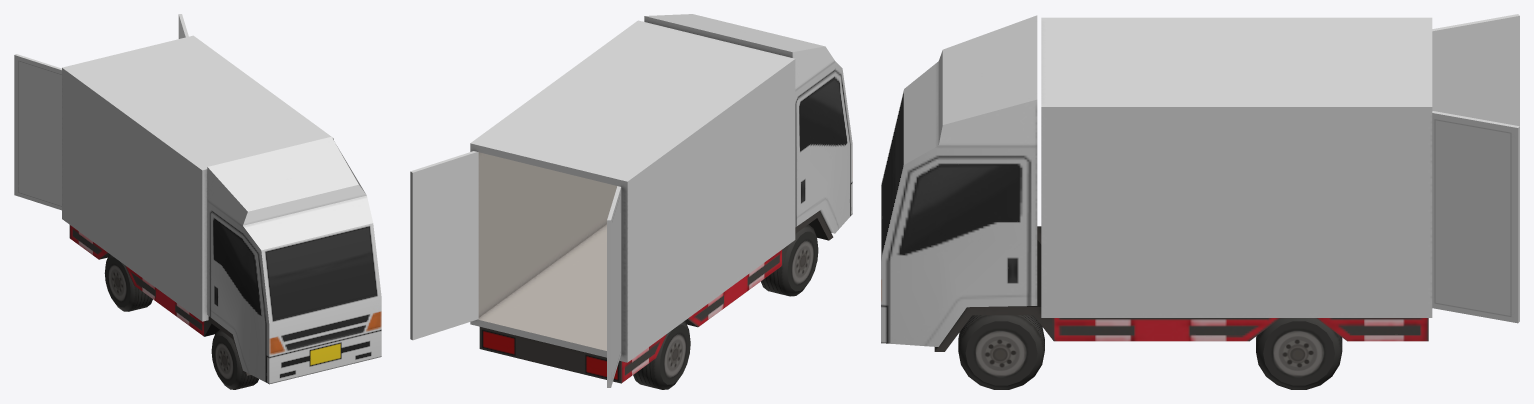
Rendered from VenderCar.FBX.
3 renders of one model, left to right at view 1: azimuth 30°, elevation 25°; view 2: azimuth 150°, elevation 25°; view 3: azimuth 270°, elevation 25°, orthographic. The views are drawn at different scales.
Visible parts, largest first — view 1: CarVender, CarDoor001, Wheel003, Wheel002; view 2: CarVender, CarDoor, CarDoor001, Wheel003, Wheel002; view 3: CarVender, CarDoor, CarDoor001, Wheel, Wheel001.
Part boxes in pixels (x1,y1,x2,y2): CarVender: (62,35,381,384); CarDoor001: (14,54,61,210); Wheel003: (211,330,258,389); Wheel002: (104,254,152,311); CarVender: (470,14,852,383); CarDoor: (410,151,478,340); CarDoor001: (607,186,621,387); Wheel003: (761,224,818,296); Wheel002: (633,321,690,389); CarVender: (881,15,1432,351); CarDoor: (1432,111,1519,323); CarDoor001: (1432,14,1519,126); Wheel: (958,315,1044,389); Wheel001: (1256,318,1342,389).
Bounding box in the file's own units: 1.37 × 1.66 × 3.24.
2 materials, 2 textured.
